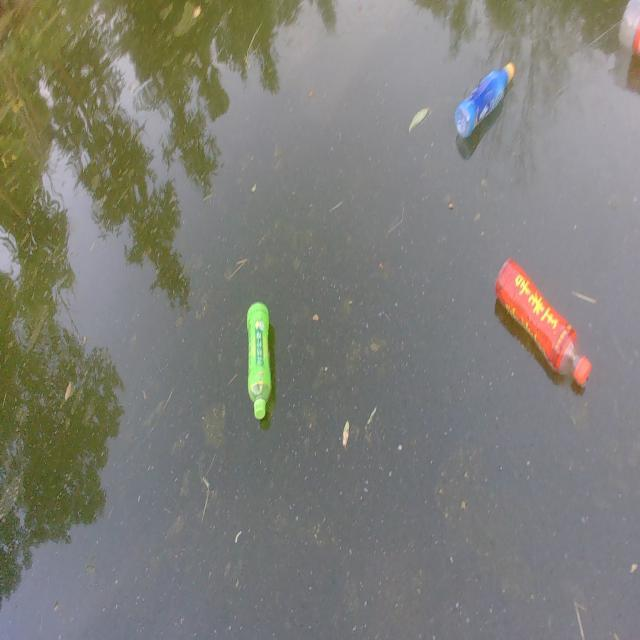garbage: (494, 256, 592, 388), (454, 60, 515, 139), (246, 300, 272, 420)
